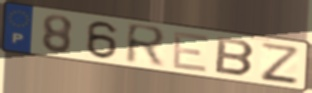6: (83, 20, 120, 61)
8: (41, 13, 74, 55)
B: (213, 36, 258, 78)
E: (171, 30, 211, 75)
R: (124, 21, 170, 70)
Z: (259, 40, 301, 85)
